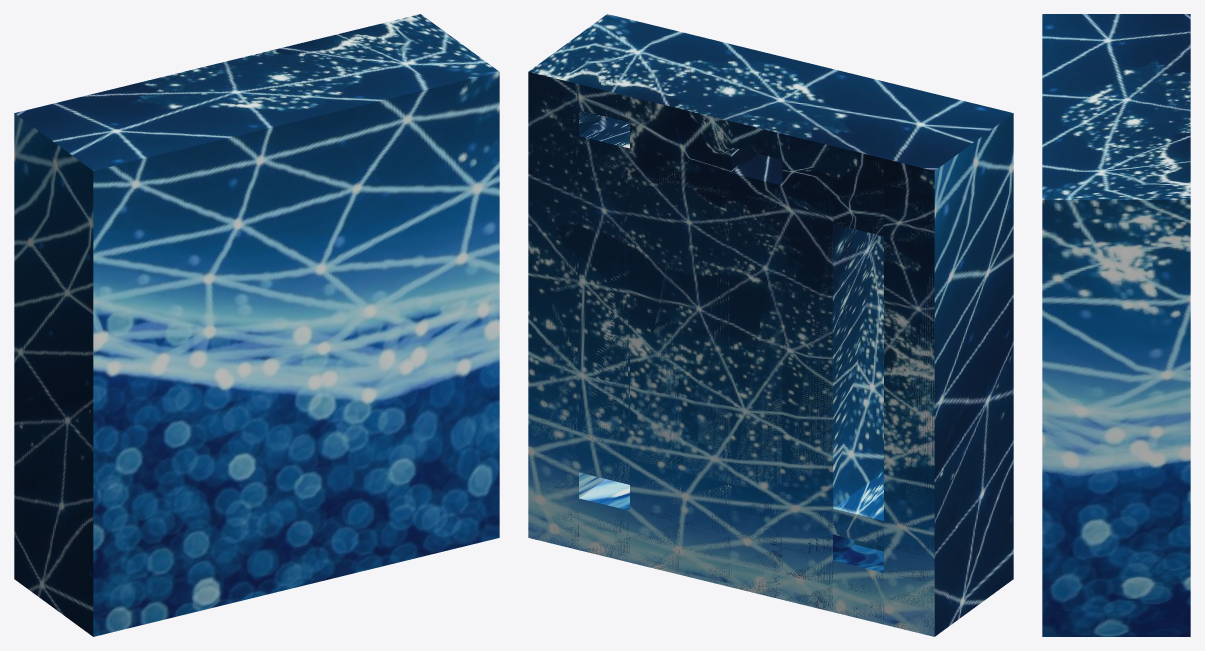
Rendered from terrain2.obj.
3 renders of one model, left to right at view 1: azimuth 30°, elevation 25°; view 2: azimuth 150°, elevation 25°; view 3: azimuth 270°, elevation 25°, orthographic. The views are drawn at different scales.
Parts seen in each view (by area): view 1: Plane; view 2: Plane; view 3: Plane.
Boxes of the visible parts, x1,y1,x2,y2 form: Plane: (14,14,499,636); Plane: (528,14,1013,636); Plane: (1042,14,1190,636).
Size of the model in its own units: 860 by 942 by 290.
Materials: 1 (1 with a texture image).
